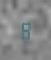eight: (19, 19, 29, 40)
